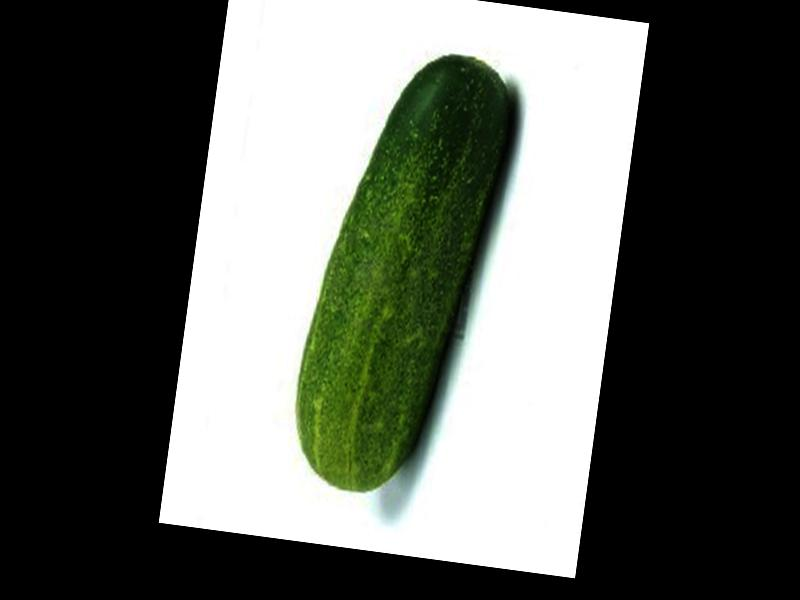Cucumber: (285, 41, 518, 505)
